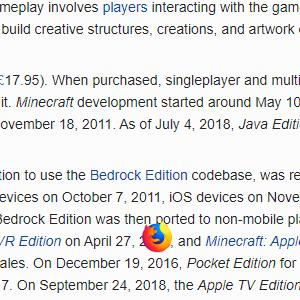firefox: (142, 221, 172, 252)
